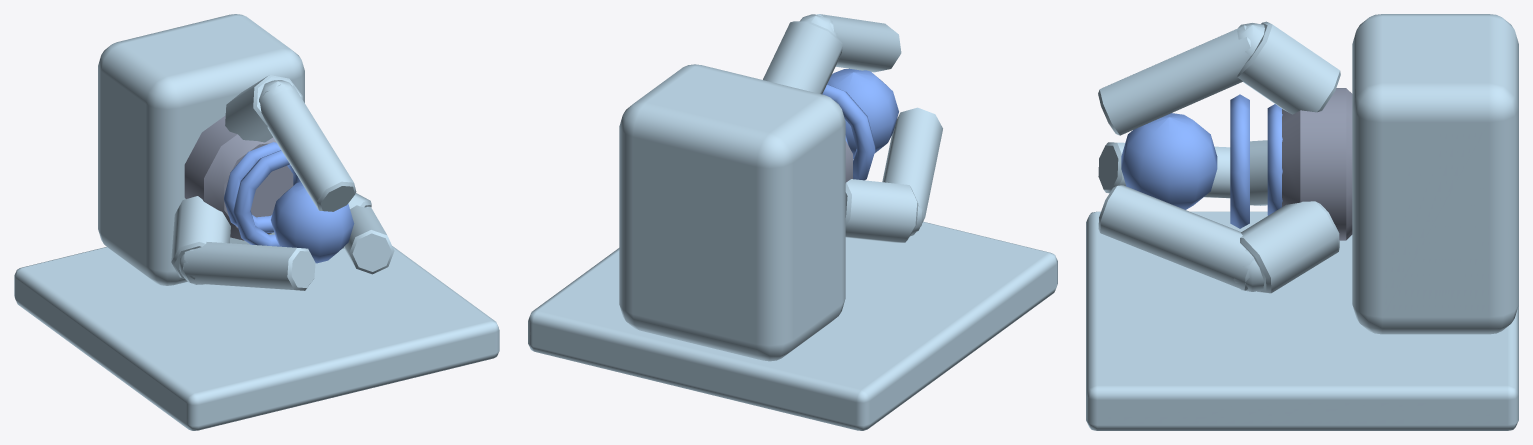
File: R4X_DirectionalEMP.glb
The picture shows the model from 3 angles, left to right: view 1: azimuth 30°, elevation 25°; view 2: azimuth 150°, elevation 25°; view 3: azimuth 270°, elevation 25°; orthographic projection. The views are drawn at different scales.
Parts seen in each view (by area): view 1: R4X_DirectionalEMP_Body; view 2: R4X_DirectionalEMP_Body; view 3: R4X_DirectionalEMP_Body.
Part boxes in pixels (x1,y1,x2,y2): R4X_DirectionalEMP_Body: [14, 14, 499, 430]; R4X_DirectionalEMP_Body: [528, 14, 1057, 430]; R4X_DirectionalEMP_Body: [1086, 14, 1518, 430].
Size of the model in its own units: 0.52 by 0.4234 by 0.52.
